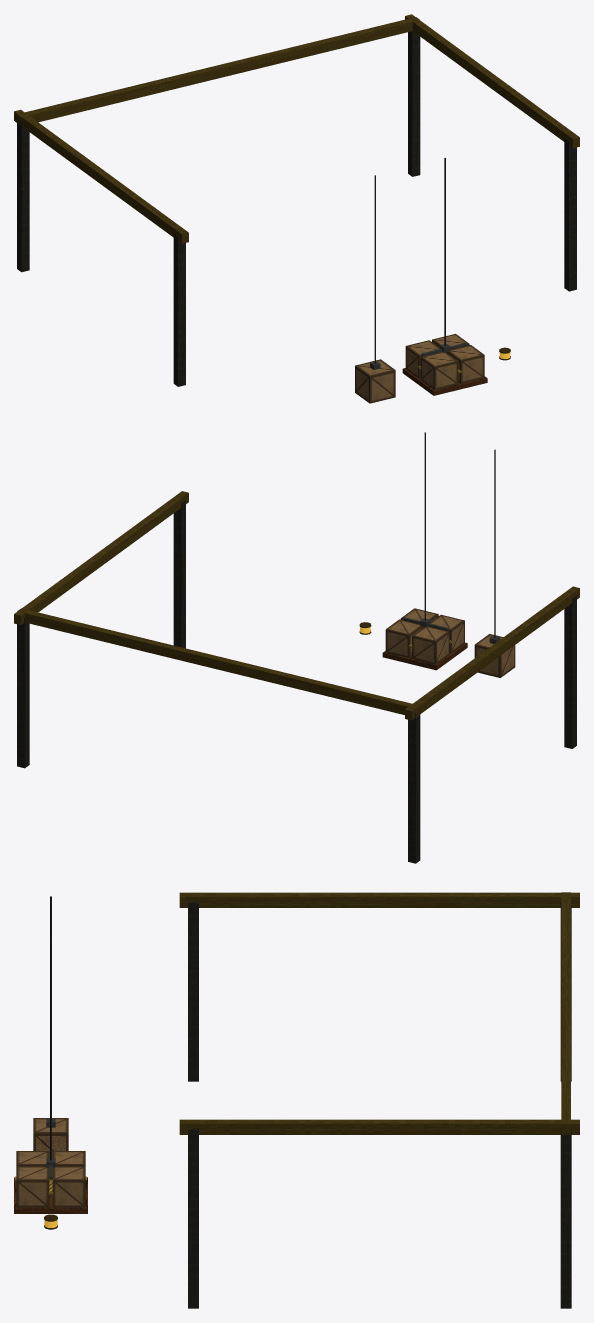
The model's file is dropzone.glb.
3 renders of one model, top to bottom at view 1: azimuth 30°, elevation 25°; view 2: azimuth 150°, elevation 25°; view 3: azimuth 270°, elevation 25°, orthographic. The views are drawn at different scales.
Parts seen in each view (by area): view 1: gantry, load_pallet, load_crate; view 2: gantry, load_pallet, load_crate; view 3: gantry, load_pallet, load_crate.
Part boxes in pixels (x1=…): gantry: x1=14, y1=14, x2=579, y2=386; load_pallet: x1=402, y1=333, x2=487, y2=395; load_crate: x1=355, y1=359, x2=395, y2=403; gantry: x1=14, y1=491, x2=579, y2=863; load_pallet: x1=382, y1=608, x2=467, y2=670; load_crate: x1=474, y1=634, x2=515, y2=677; gantry: x1=179, y1=892, x2=579, y2=1308; load_pallet: x1=14, y1=1151, x2=87, y2=1213; load_crate: x1=33, y1=1118, x2=68, y2=1150.
Size of the model in its own units: 20 by 10.54 by 20.65.
9 materials, 7 textured.
